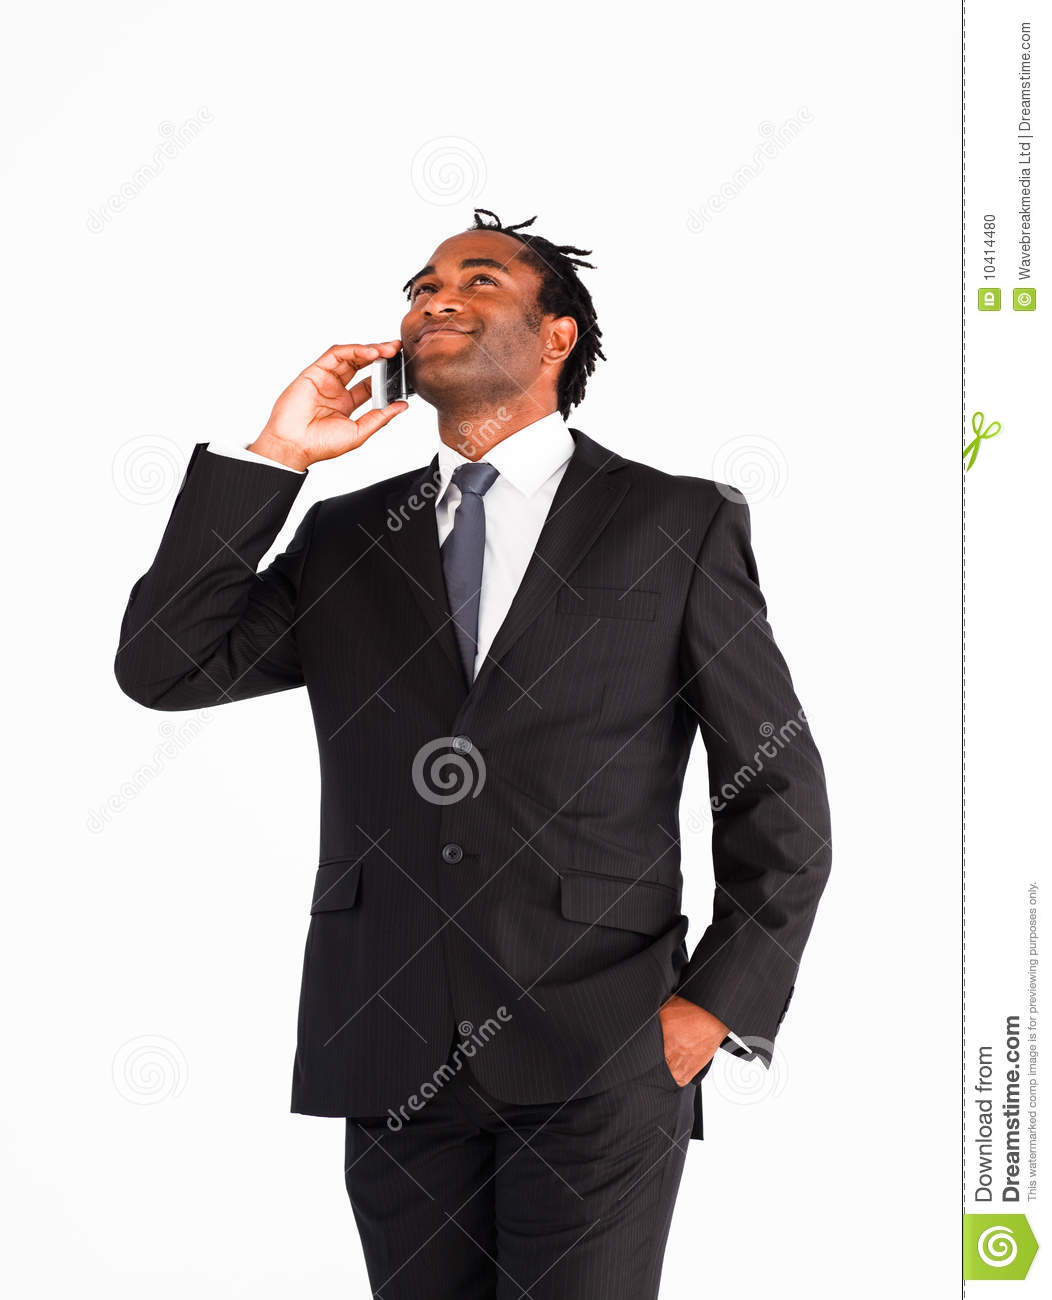phone: (365, 328, 415, 420)
talk: (259, 251, 529, 463)
